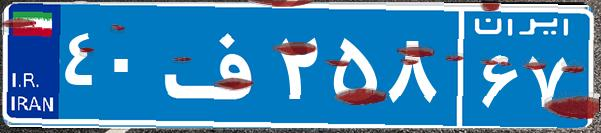0: (110, 28, 158, 105)
2: (273, 28, 330, 110)
4: (57, 26, 110, 107)
5: (330, 28, 385, 110)
6: (475, 38, 525, 113)
7: (525, 38, 570, 115)
8: (385, 28, 445, 110)
ف: (158, 15, 273, 115)
